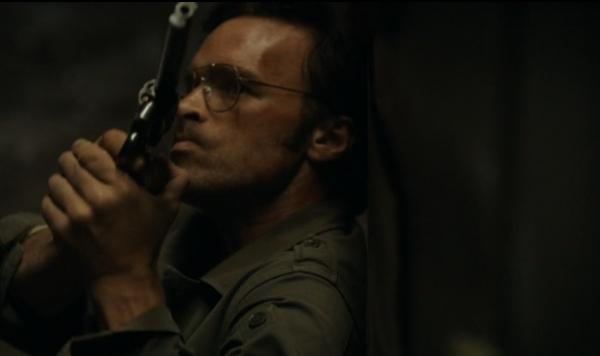Gun: (117, 0, 200, 173)
